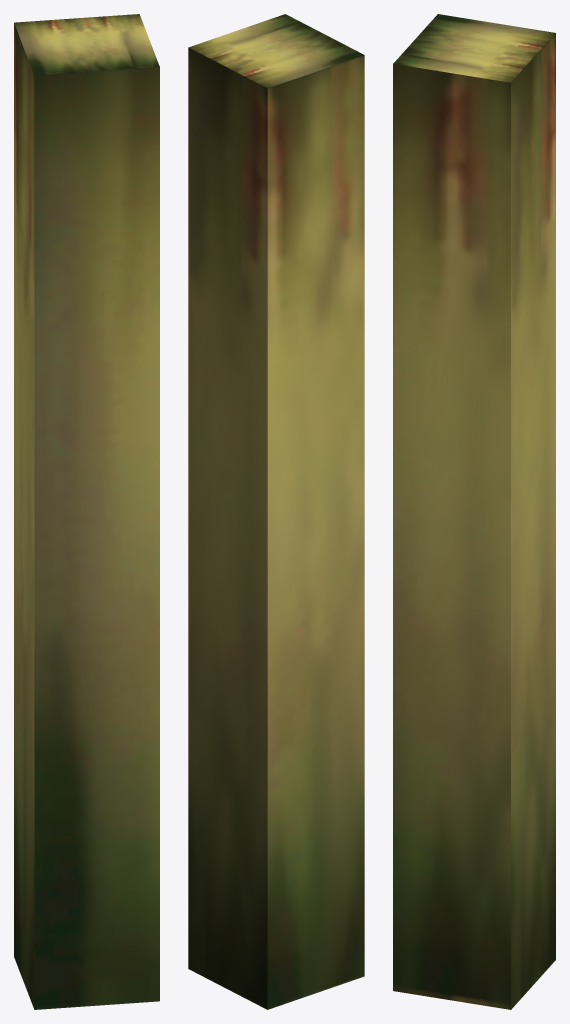
File: H1_F1_Col1.gltf
3 renders of one model, left to right at view 1: azimuth 30°, elevation 25°; view 2: azimuth 150°, elevation 25°; view 3: azimuth 270°, elevation 25°, orthographic.
Parts seen in each view (by area): view 1: H1_F1_Col1; view 2: H1_F1_Col1; view 3: H1_F1_Col1.
Part boxes in pixels (left/top/right/bottom): H1_F1_Col1: left=14, top=14, right=159, bottom=1009; H1_F1_Col1: left=188, top=14, right=364, bottom=1009; H1_F1_Col1: left=393, top=14, right=555, bottom=1009.
Bounding box in the file's own units: 1.7 × 10.68 × 1.7.
Materials: 1 (1 with a texture image).
